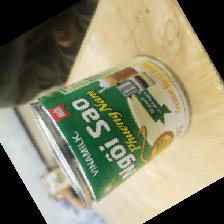NSPN_Lon: (28, 53, 195, 214)
